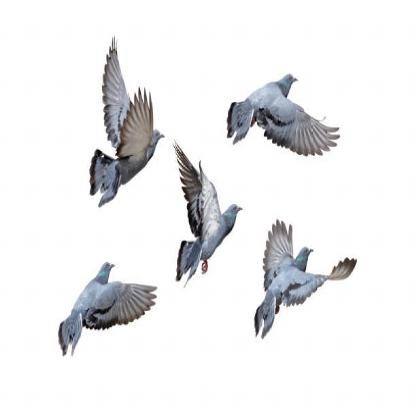Rock Pigeon: (258, 216, 355, 337), (92, 47, 163, 210), (224, 72, 345, 161), (173, 146, 242, 286), (58, 264, 158, 349)
